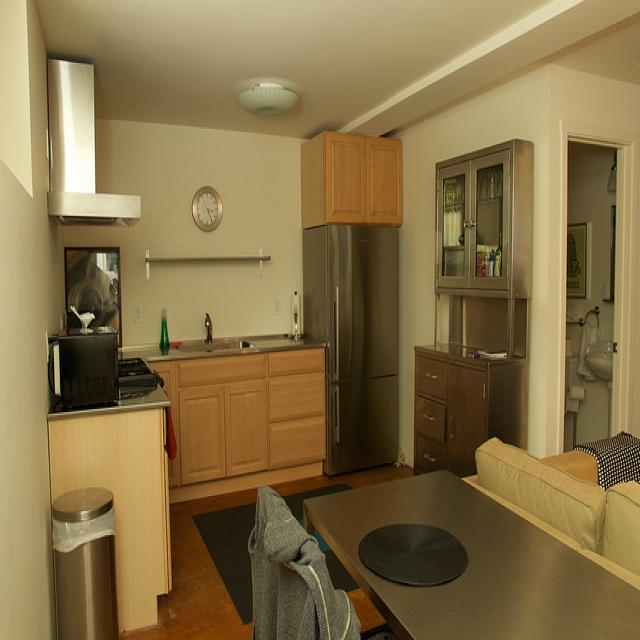chair: (252, 484, 385, 639)
dining table: (298, 468, 640, 632)
